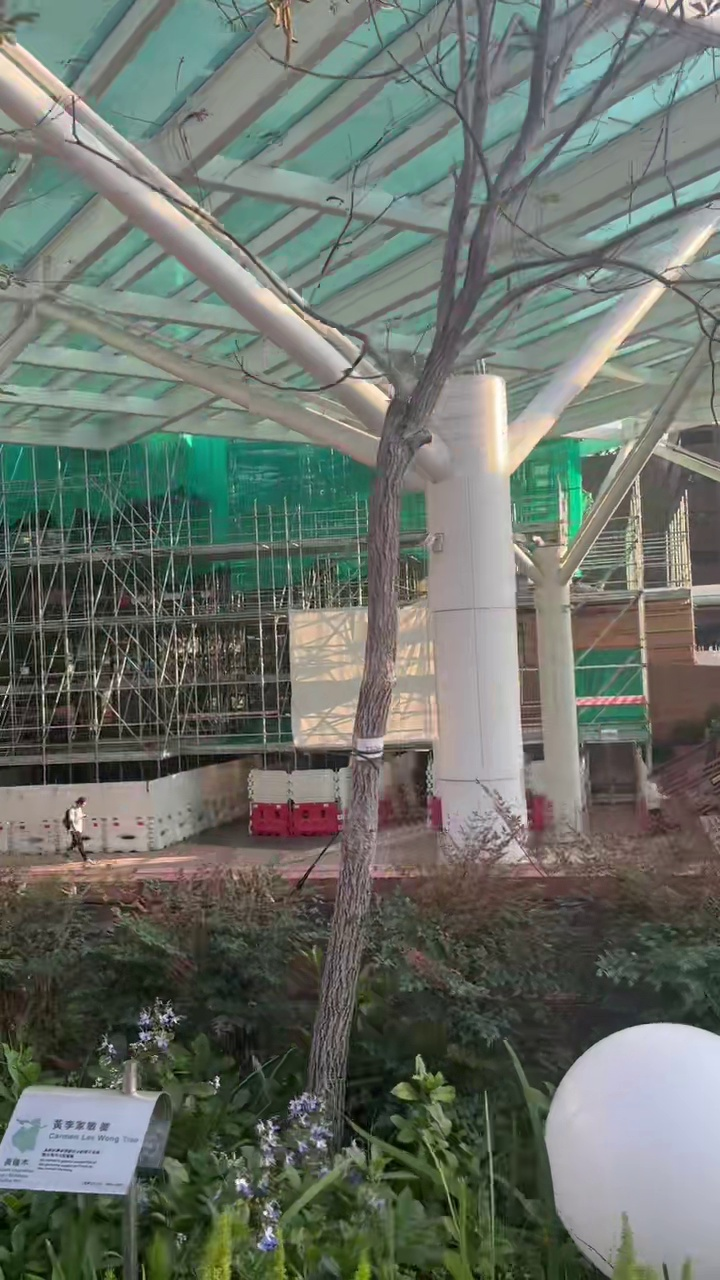Tabebuia chrysantha: (308, 0, 599, 1136)
